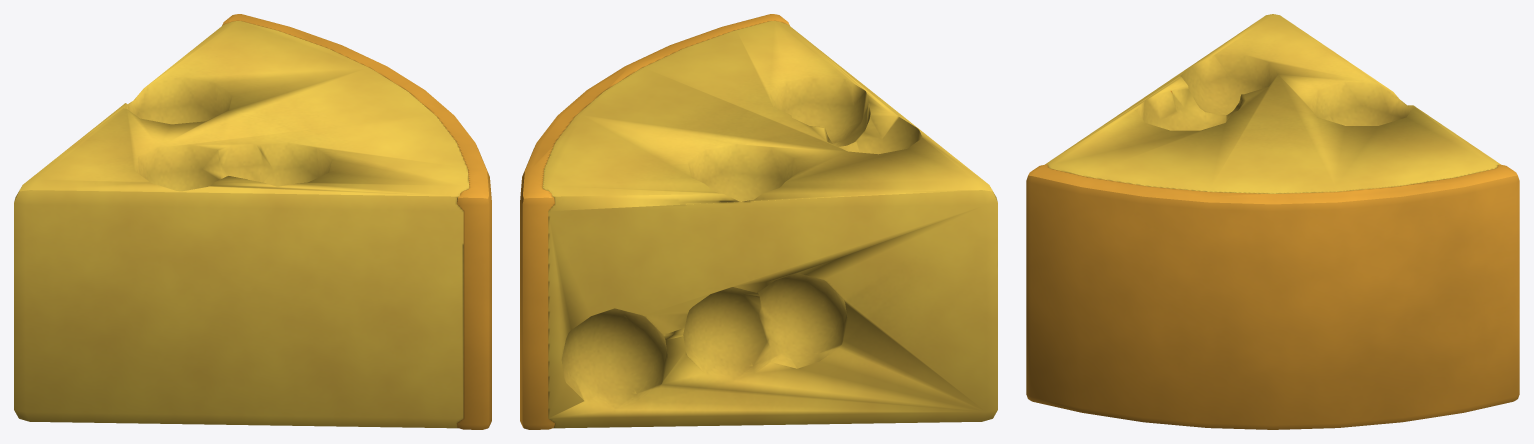
The model's file is Cheese.fbx.
3 views of the same model, side by side, from view 1: azimuth 30°, elevation 25°; view 2: azimuth 150°, elevation 25°; view 3: azimuth 270°, elevation 25° (orthographic). The views are drawn at different scales.
Visible parts, largest first — view 1: Cheese; view 2: Cheese; view 3: Cheese.
Part boxes in pixels (x1,y1,x2,y2): Cheese: (14,14,491,429); Cheese: (520,14,997,429); Cheese: (1026,14,1519,429).
Bounding box in the file's own units: 0.7513 × 0.42 × 0.7984.
Materials: 1 (1 with a texture image).
